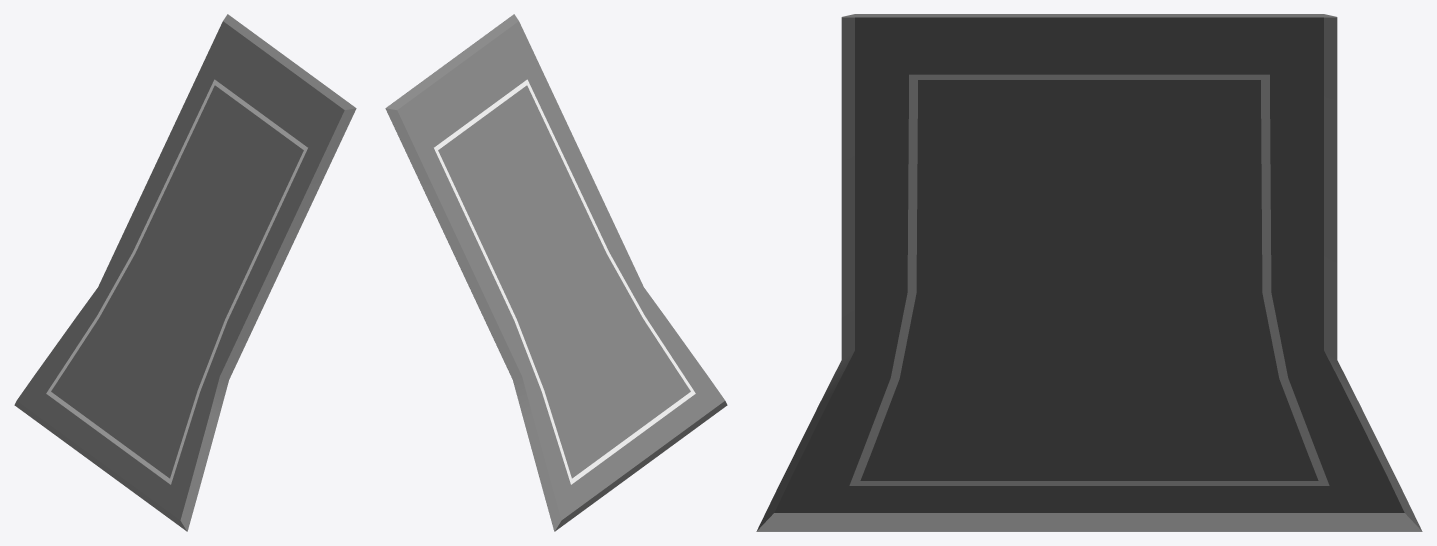
The model's file is Storage_Bay_Door_03.fbx.
3 renders of one model, left to right at view 1: azimuth 30°, elevation 25°; view 2: azimuth 150°, elevation 25°; view 3: azimuth 270°, elevation 25°, orthographic. The views are drawn at different scales.
Visible parts, largest first — view 1: Storage_Bay_Door_03; view 2: Storage_Bay_Door_03; view 3: Storage_Bay_Door_03.
Boxes of the visible parts, x1,y1,x2,y2 form: Storage_Bay_Door_03: (14, 14, 356, 531); Storage_Bay_Door_03: (385, 14, 727, 531); Storage_Bay_Door_03: (756, 14, 1422, 531).
Bounding box in the file's own units: 6.46 × 11.5 × 10.
